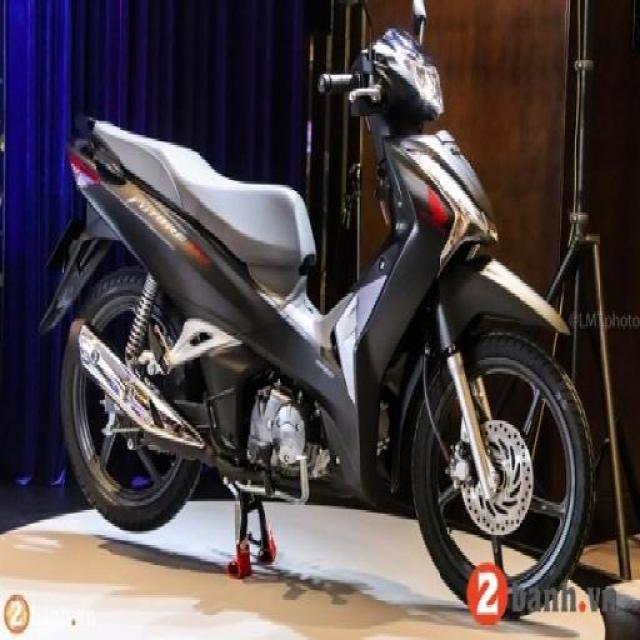All: (33, 26, 596, 617)
Head: (318, 32, 447, 123)
Tail: (59, 112, 142, 205)
